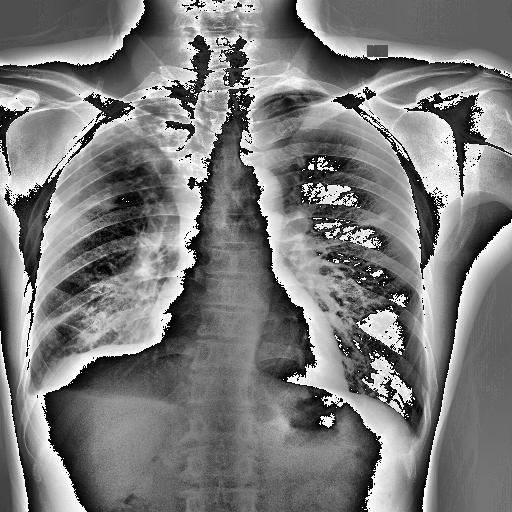1- Atelectasis: (60, 100, 190, 211), (85, 104, 179, 170)
10- Pleural effusion: (20, 382, 110, 410), (20, 362, 55, 408)
11- Pleural thickening: (98, 91, 193, 123), (20, 382, 110, 410), (20, 362, 55, 408), (27, 382, 46, 402)
13- Pulmonary fibrosis: (60, 100, 190, 211), (85, 104, 179, 170), (90, 126, 158, 202), (38, 306, 80, 338), (42, 309, 80, 336), (357, 209, 402, 230), (366, 212, 392, 225)
6- Infiltration: (85, 104, 179, 170)
8- Nodule-Mass: (378, 212, 390, 222)
